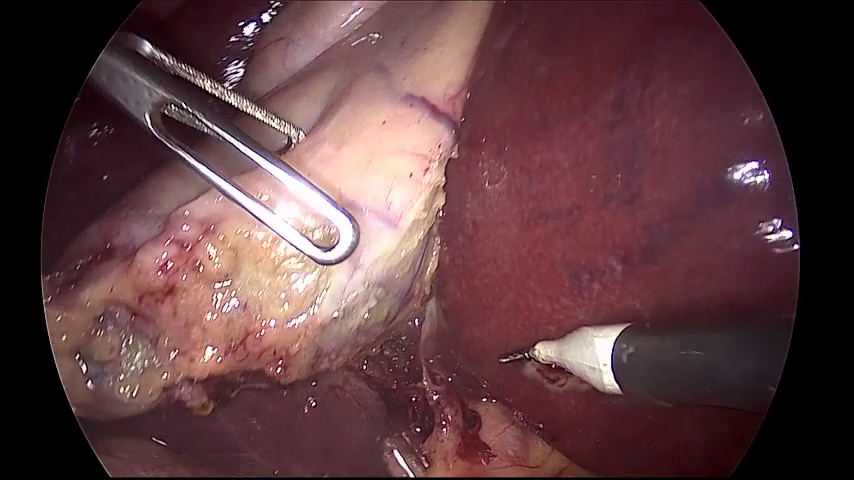grasper: (90, 30, 360, 259)
lhook: (499, 317, 794, 418)
